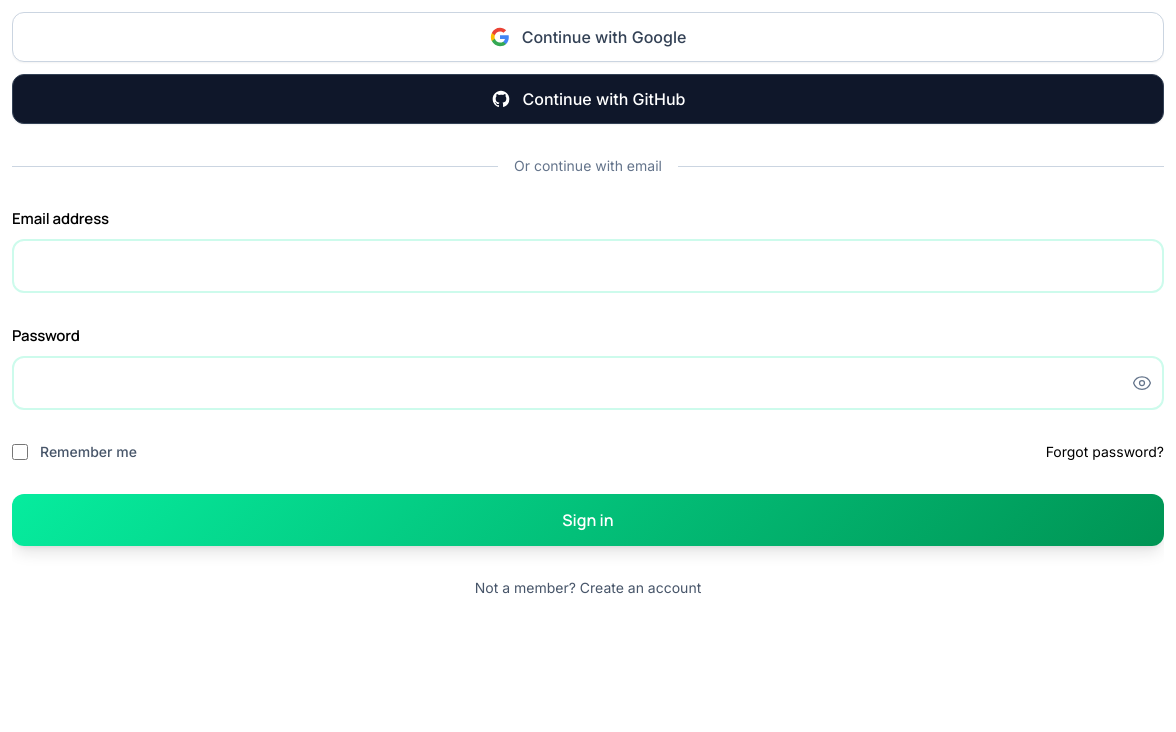
Scenario: LoginForm Component › shows validation errors for empty fields
Click the button "Sign in" at (588, 520), box left=12, top=494, right=1164, bottom=546
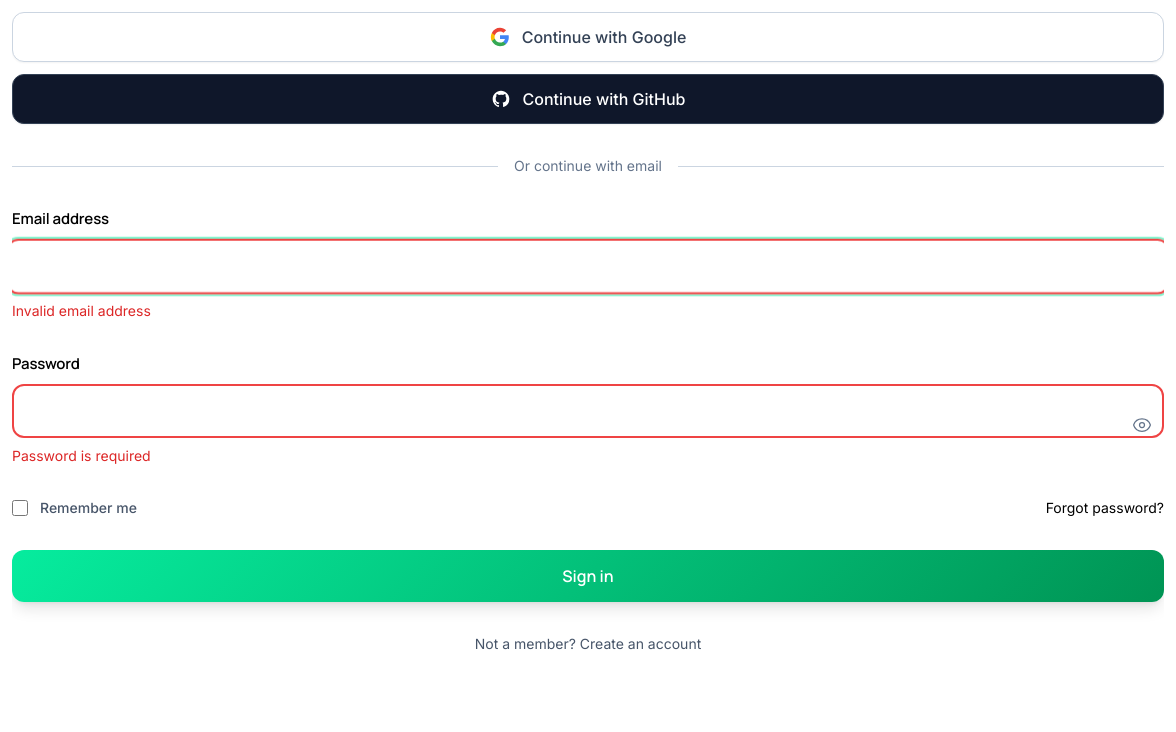
Now the text "Invalid email address" is shown, box left=12, top=302, right=151, bottom=319
Now the text "Password is required" is shown, box left=12, top=447, right=151, bottom=464
